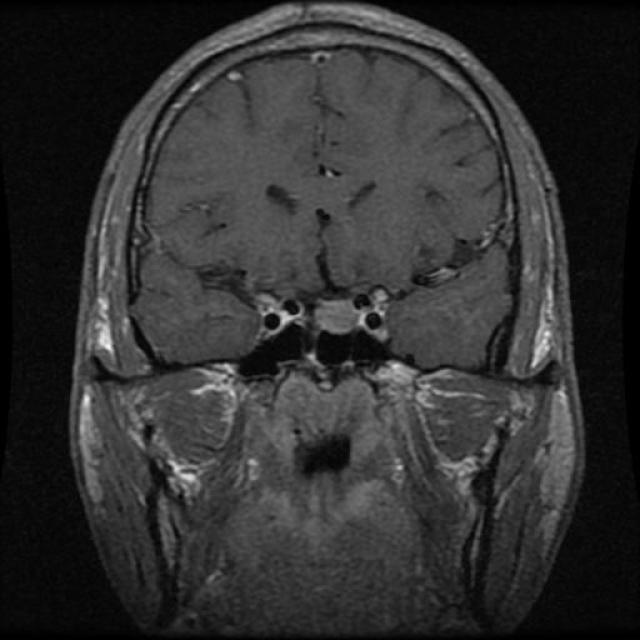pituitary: (307, 286, 385, 344)
